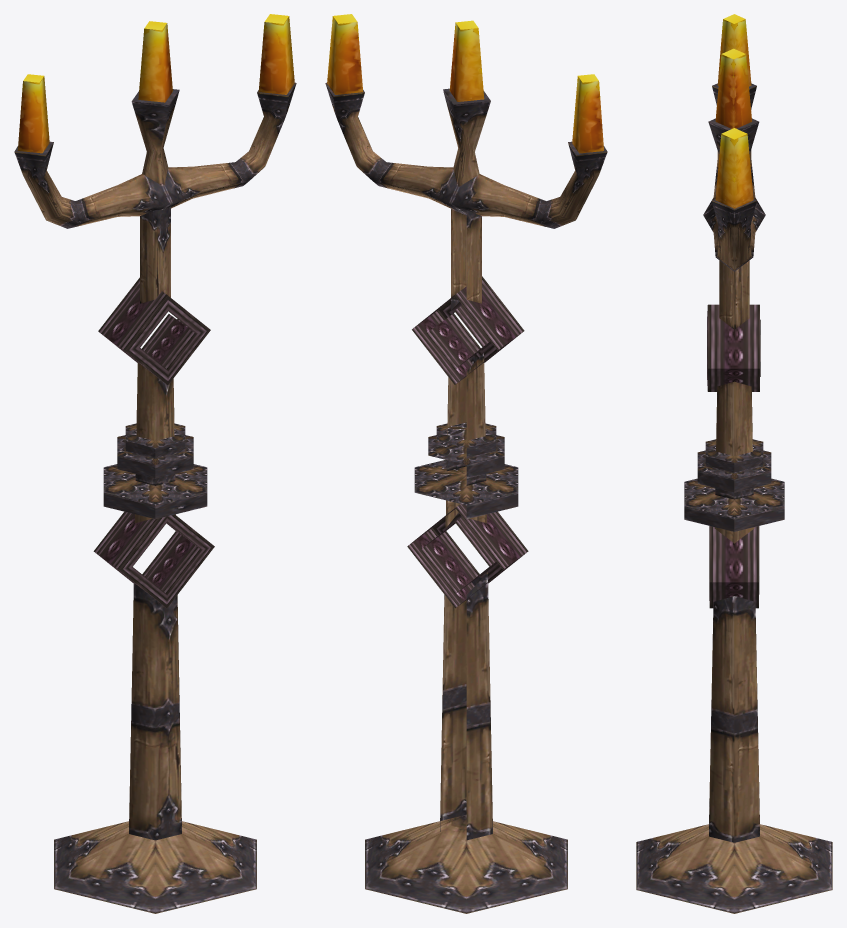
File: SM_Town012_Zt.FBX
3 renders of one model, left to right at view 1: azimuth 30°, elevation 25°; view 2: azimuth 150°, elevation 25°; view 3: azimuth 270°, elevation 25°, orthographic. The views are drawn at different scales.
Visible parts, largest first — view 1: SM_Town012_Zt; view 2: SM_Town012_Zt; view 3: SM_Town012_Zt.
Boxes of the visible parts, x1,y1,x2,y2 form: SM_Town012_Zt: (14, 14, 296, 913); SM_Town012_Zt: (325, 14, 607, 913); SM_Town012_Zt: (636, 14, 832, 913).
Size of the model in its own units: 87.34 by 248 by 54.42.
